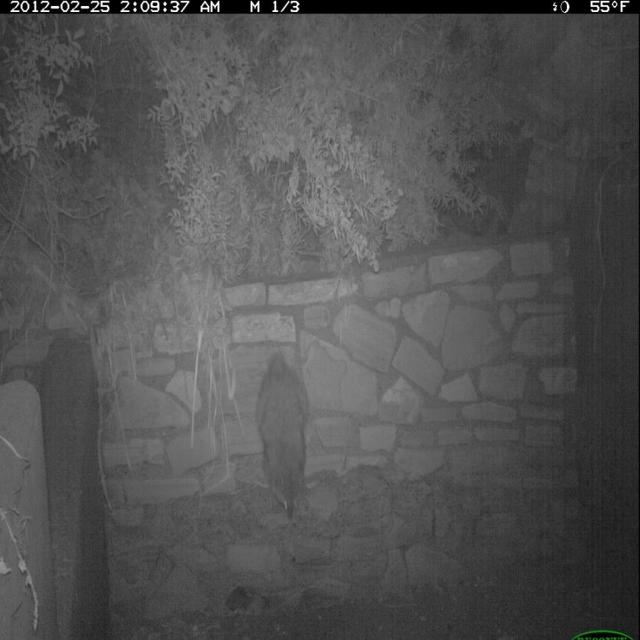raccoon: (251, 342, 315, 528)
